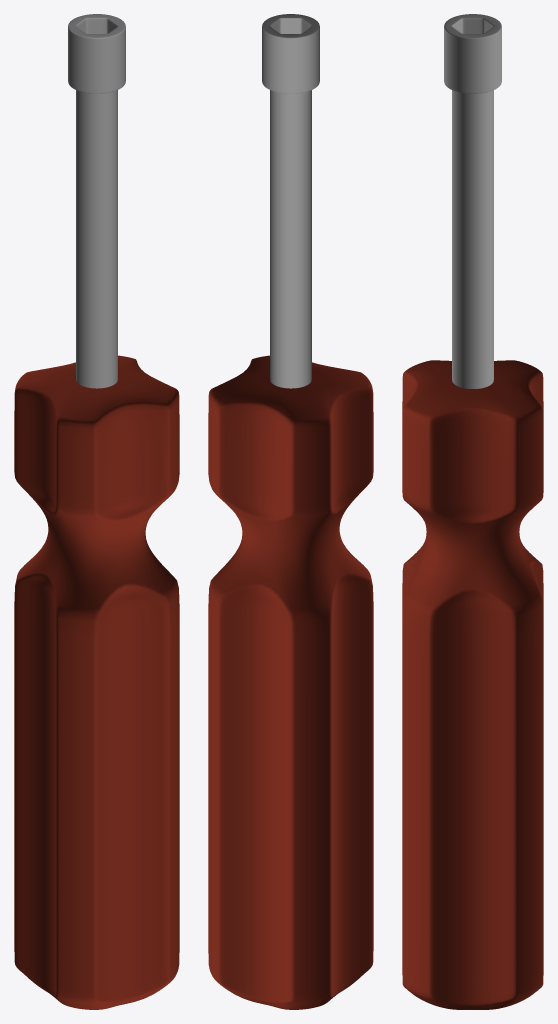
The model's file is screwdriver.fbx.
The picture shows the model from 3 angles, left to right: view 1: azimuth 30°, elevation 25°; view 2: azimuth 150°, elevation 25°; view 3: azimuth 270°, elevation 25°; orthographic projection.
Parts seen in each view (by area): view 1: hex_head_handle, hex_head_screwdriver_body; view 2: hex_head_handle, hex_head_screwdriver_body; view 3: hex_head_handle, hex_head_screwdriver_body.
Part boxes in pixels (left/top/right/bottom): hex_head_handle: left=14, top=355, right=179, bottom=1009; hex_head_screwdriver_body: left=68, top=14, right=125, bottom=388; hex_head_handle: left=208, top=355, right=373, bottom=1009; hex_head_screwdriver_body: left=262, top=14, right=319, bottom=388; hex_head_handle: left=402, top=360, right=543, bottom=1009; hex_head_screwdriver_body: left=444, top=14, right=501, bottom=388.
Bounding box in the file's own units: 212 × 1612 × 212.
